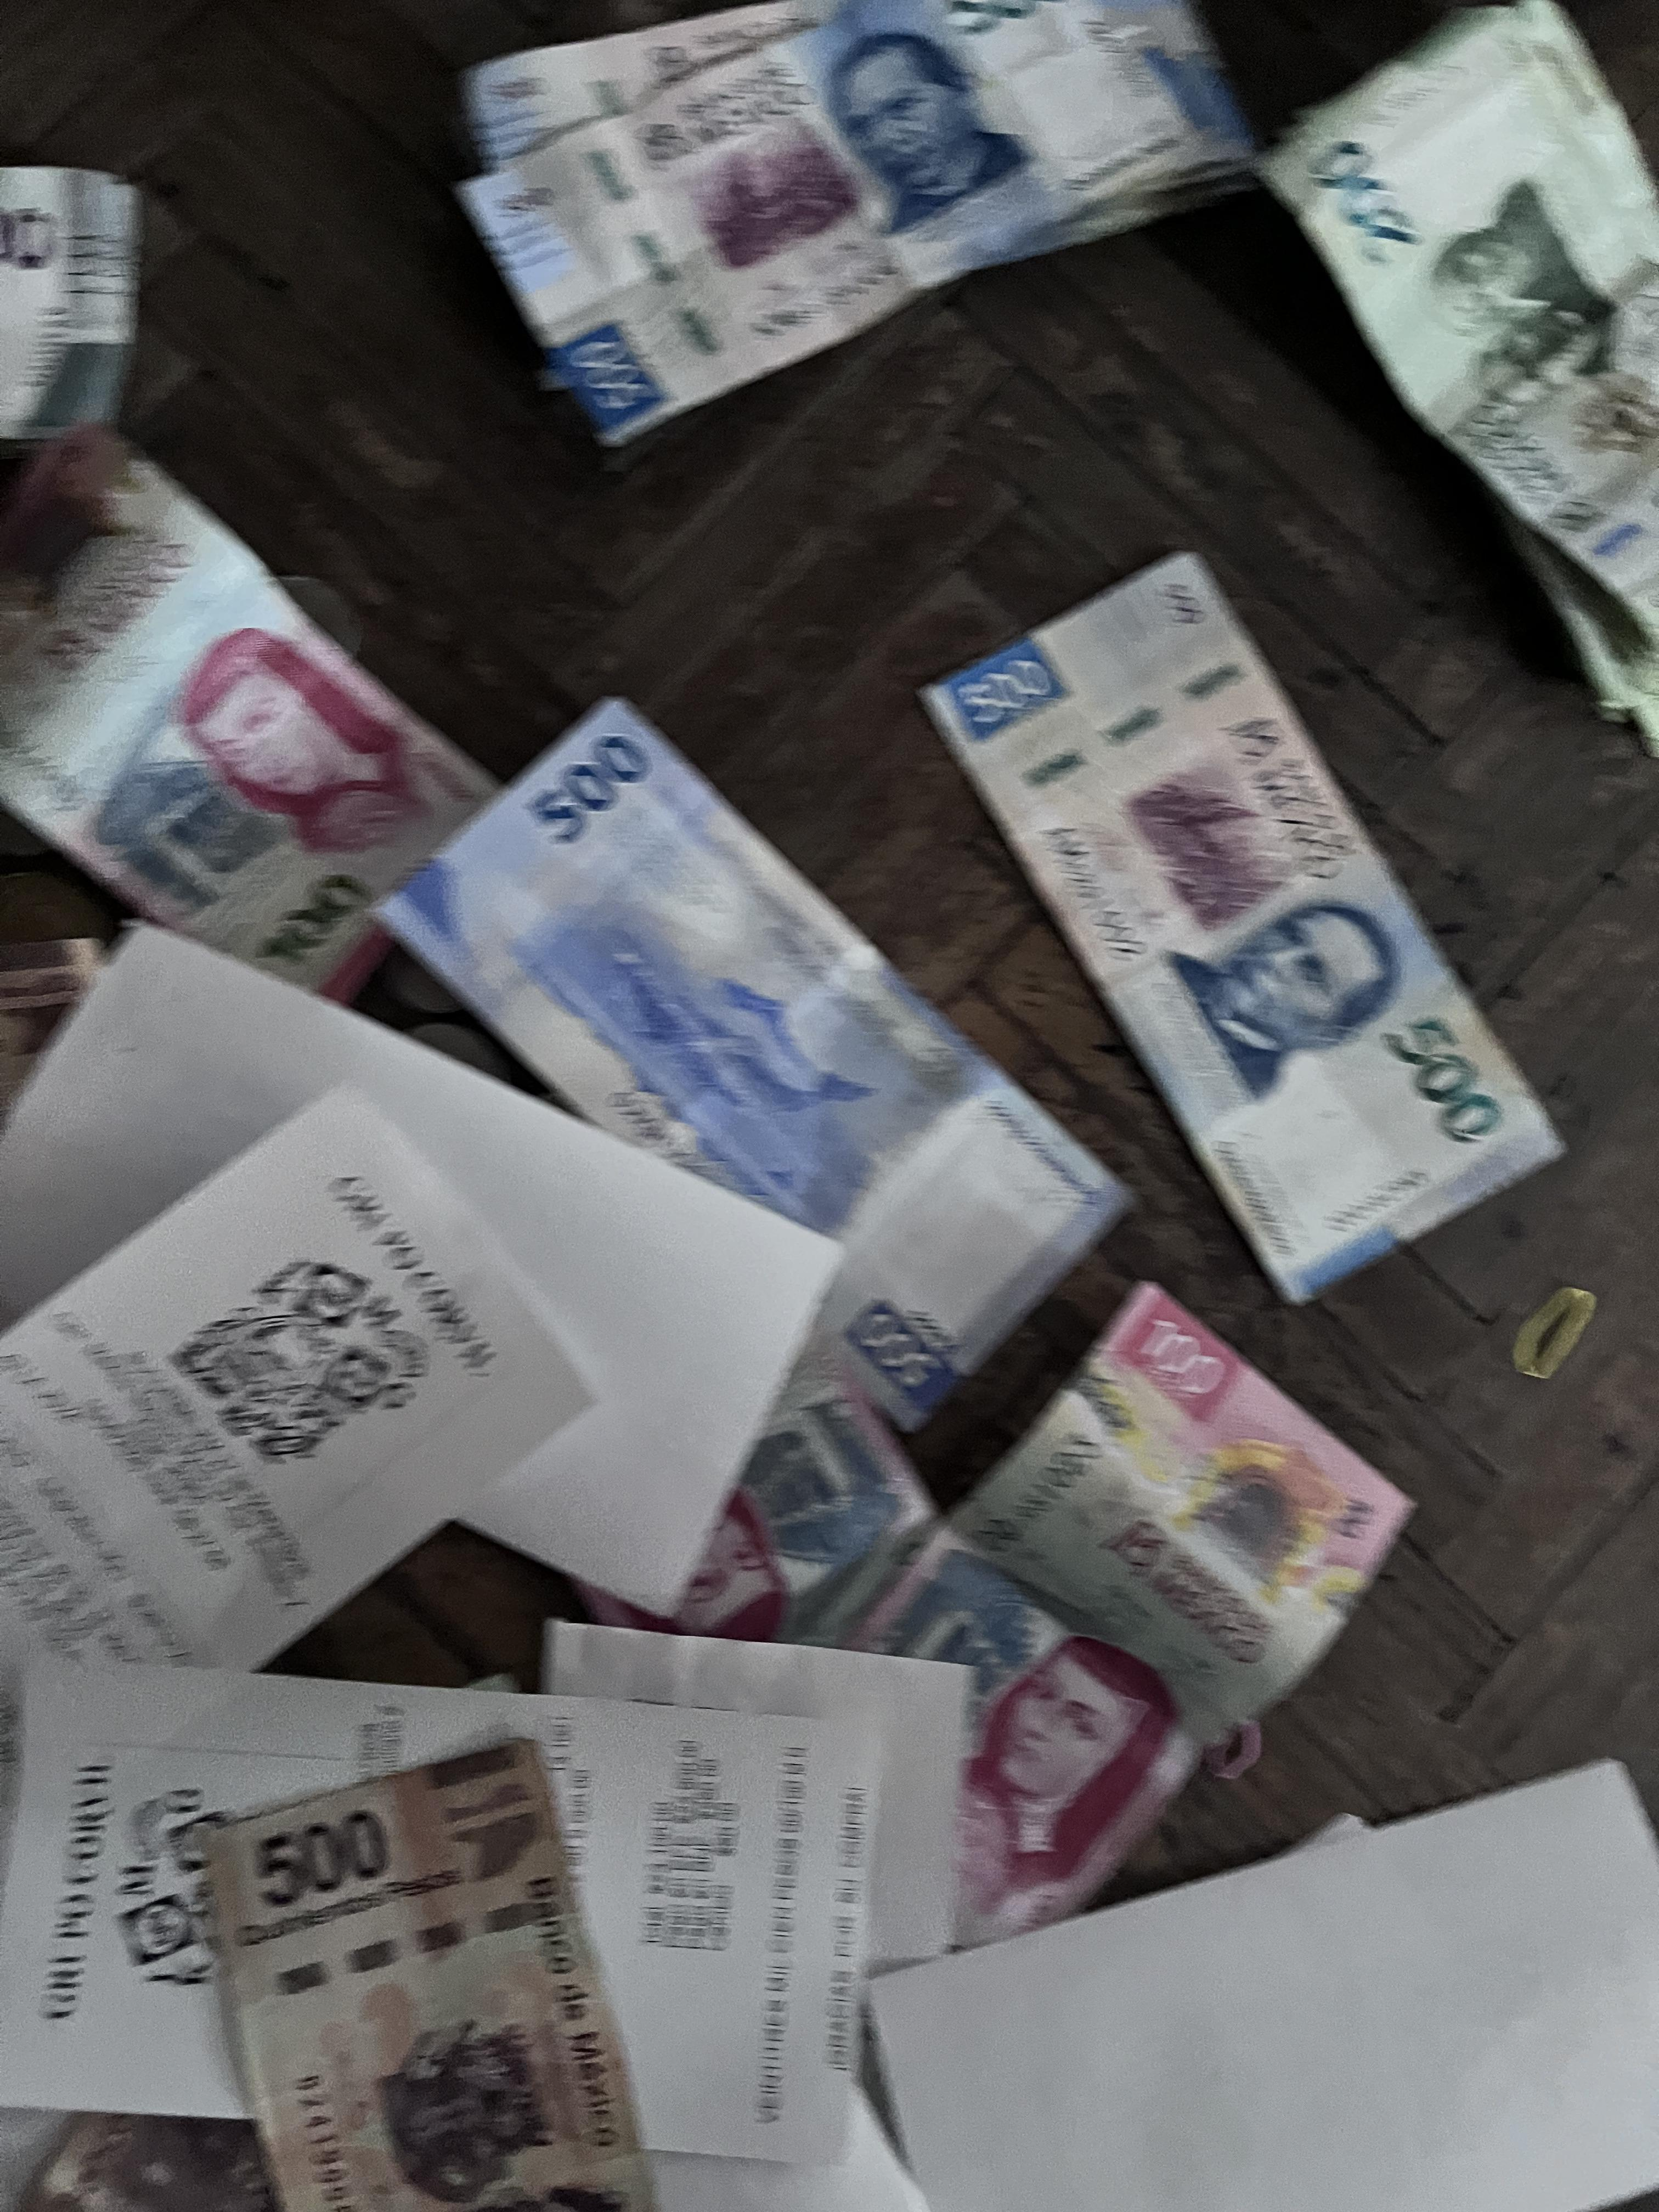100: (751, 1292, 1462, 1998), (0, 442, 519, 1073)
200: (1262, 0, 1659, 754)
500: (202, 1698, 706, 2212)
500 nuevo: (894, 533, 1586, 1341), (354, 667, 1077, 1428), (488, 0, 1236, 491)
